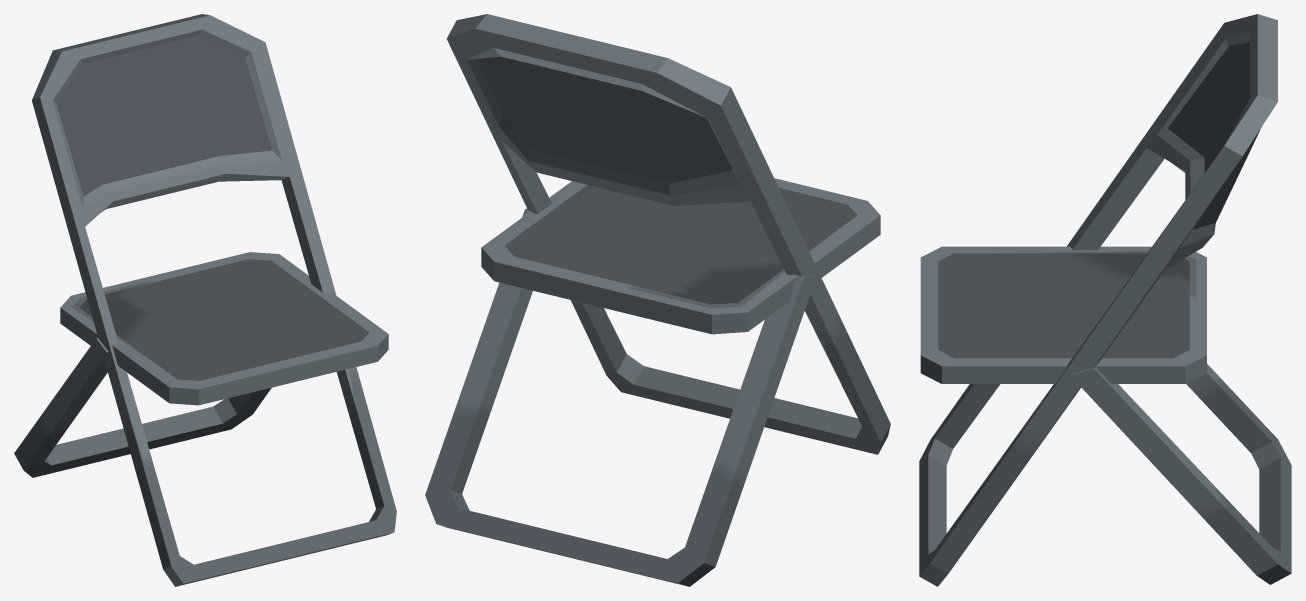
Rendered from SM_Prop_Chair_Metal_01.fbx.
3 renders of one model, left to right at view 1: azimuth 30°, elevation 25°; view 2: azimuth 150°, elevation 25°; view 3: azimuth 270°, elevation 25°, orthographic. The views are drawn at different scales.
Visible parts, largest first — view 1: SM_Prop_Chair_Metal_01; view 2: SM_Prop_Chair_Metal_01; view 3: SM_Prop_Chair_Metal_01.
Boxes of the visible parts, left/top/right/bottom form: SM_Prop_Chair_Metal_01: left=14, top=14, right=396, bottom=586; SM_Prop_Chair_Metal_01: left=425, top=14, right=890, bottom=586; SM_Prop_Chair_Metal_01: left=919, top=14, right=1291, bottom=586.
Bounding box in the file's own units: 58.65 × 104 × 73.68.
